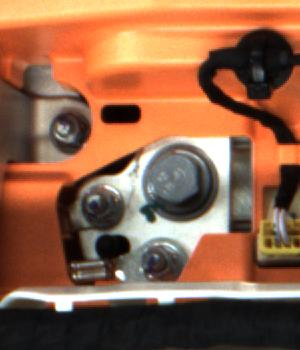nut_b: (139, 136, 217, 218)
screw_s: (76, 183, 132, 233), (49, 117, 88, 157), (140, 245, 181, 278)
